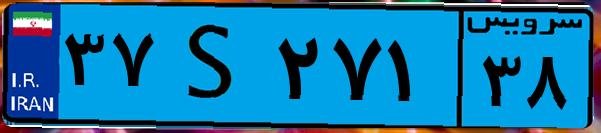1: (385, 28, 445, 110)
2: (270, 28, 330, 110)
3: (57, 26, 110, 100), (475, 38, 525, 113)
7: (330, 28, 385, 110), (110, 28, 158, 98)
8: (525, 38, 570, 115)
S: (158, 12, 270, 120)
